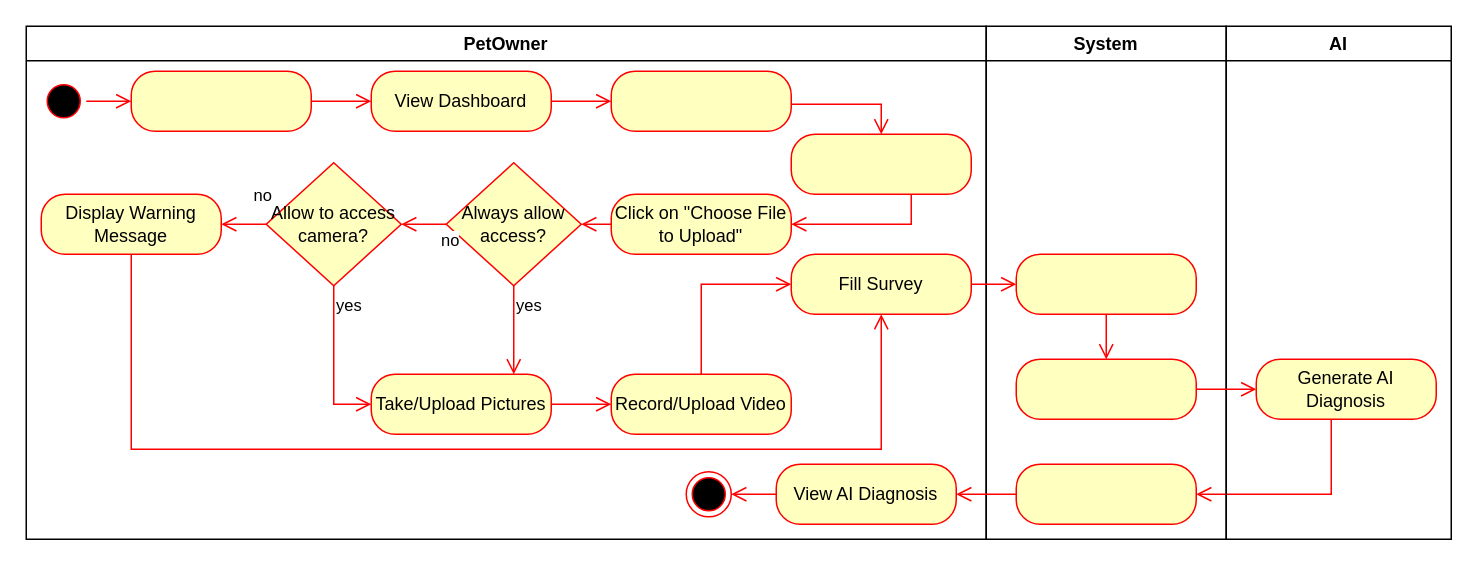
Image size: 1478x566. Some labels were removed from this diagram. The box of each missing label's shape, as (x1, y1, x2, y2) in pixels:
Click on "What is Wrong With My Pet": (610, 70, 791, 131)
Login to Mobile Application: (130, 70, 311, 131)
Save Record: (1015, 253, 1196, 314)
Select Your Pet: (790, 133, 971, 194)
Send AI Diagnosis: (1015, 463, 1196, 524)
Send Record to AI: (1015, 358, 1196, 419)
